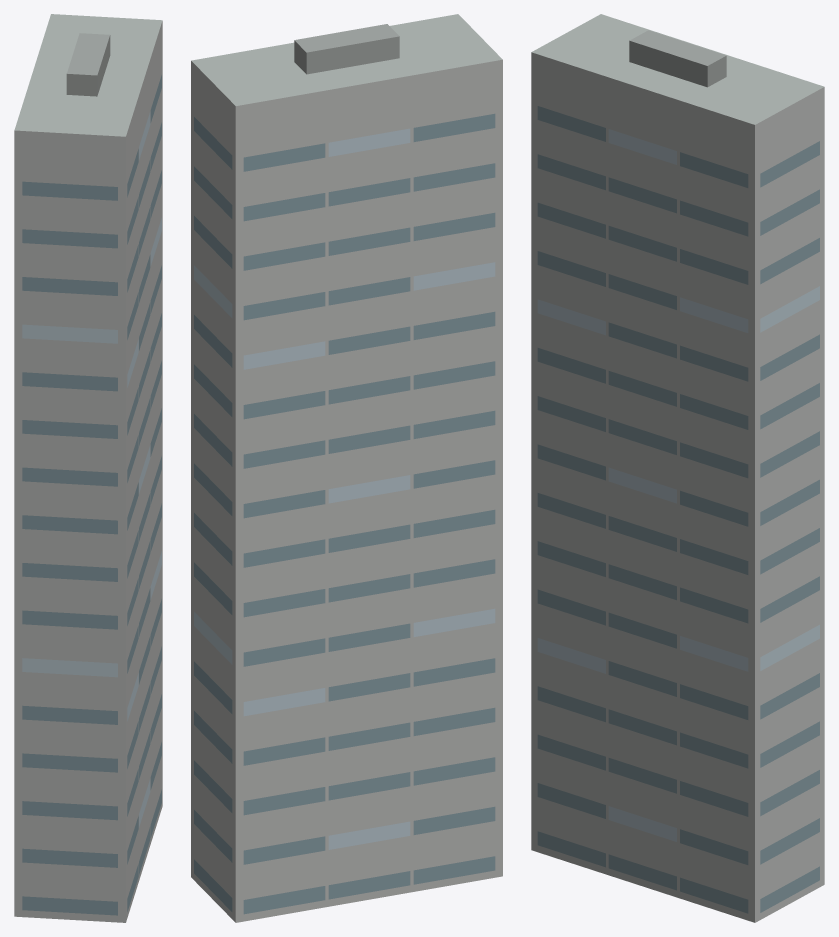
File: fallback-jamsil-parkrio-222.glb
3 views of the same model, side by side, from view 1: azimuth 30°, elevation 25°; view 2: azimuth 150°, elevation 25°; view 3: azimuth 270°, elevation 25° (orthographic). The views are drawn at different scales.
Visible parts, largest first — view 1: fallback-jamsil-parkrio-222; view 2: fallback-jamsil-parkrio-222; view 3: fallback-jamsil-parkrio-222.
Part boxes in pixels (bbox=[...]): fallback-jamsil-parkrio-222: bbox=[14, 14, 162, 922]; fallback-jamsil-parkrio-222: bbox=[191, 14, 502, 922]; fallback-jamsil-parkrio-222: bbox=[531, 14, 824, 922].
Bounding box in the file's own units: 26.73 × 92 × 29.86.
